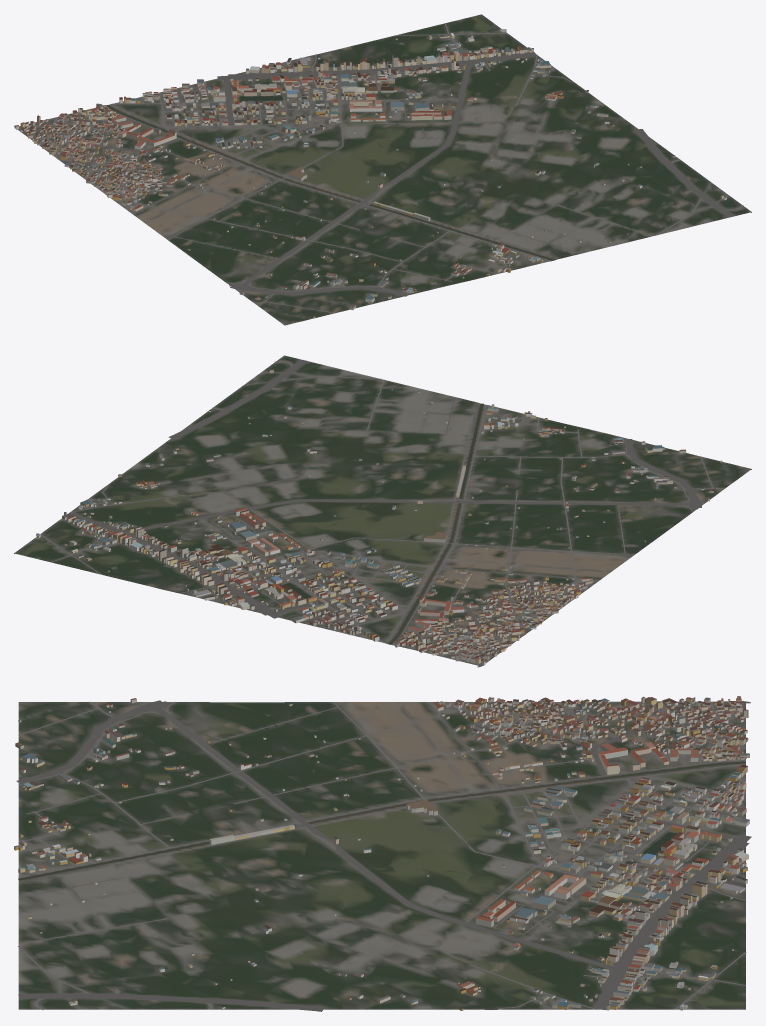
3 renders of one model, top to bottom at view 1: azimuth 30°, elevation 25°; view 2: azimuth 150°, elevation 25°; view 3: azimuth 270°, elevation 25°, orthographic. The views are drawn at different scales.
Visible parts, largest first — view 1: ground, buildings, roads, water; view 2: ground, buildings, roads, water; view 3: ground, buildings, roads, water.
Part boxes in pixels (bbox=[...]): ground: bbox=[18, 14, 751, 325]; buildings: bbox=[16, 29, 726, 318]; roads: bbox=[14, 23, 743, 313]; water: bbox=[106, 35, 554, 260]; ground: bbox=[14, 355, 751, 665]; buildings: bbox=[36, 369, 722, 665]; roads: bbox=[40, 359, 725, 667]; water: bbox=[49, 403, 483, 644]; ground: bbox=[18, 701, 745, 1009]; buildings: bbox=[14, 696, 749, 1010]; roads: bbox=[16, 700, 751, 1011]; water: bbox=[18, 761, 745, 1005].
Bounding box in the file's own units: 1418 × 30.22 × 1422.
